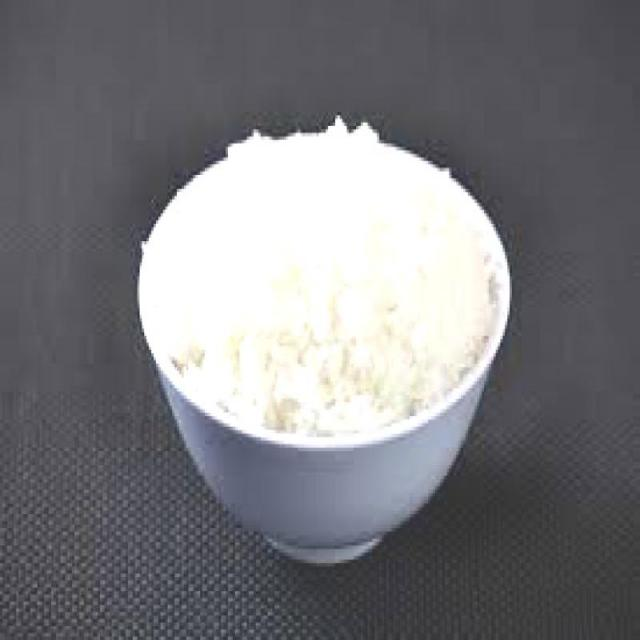rice: (149, 120, 495, 438)
